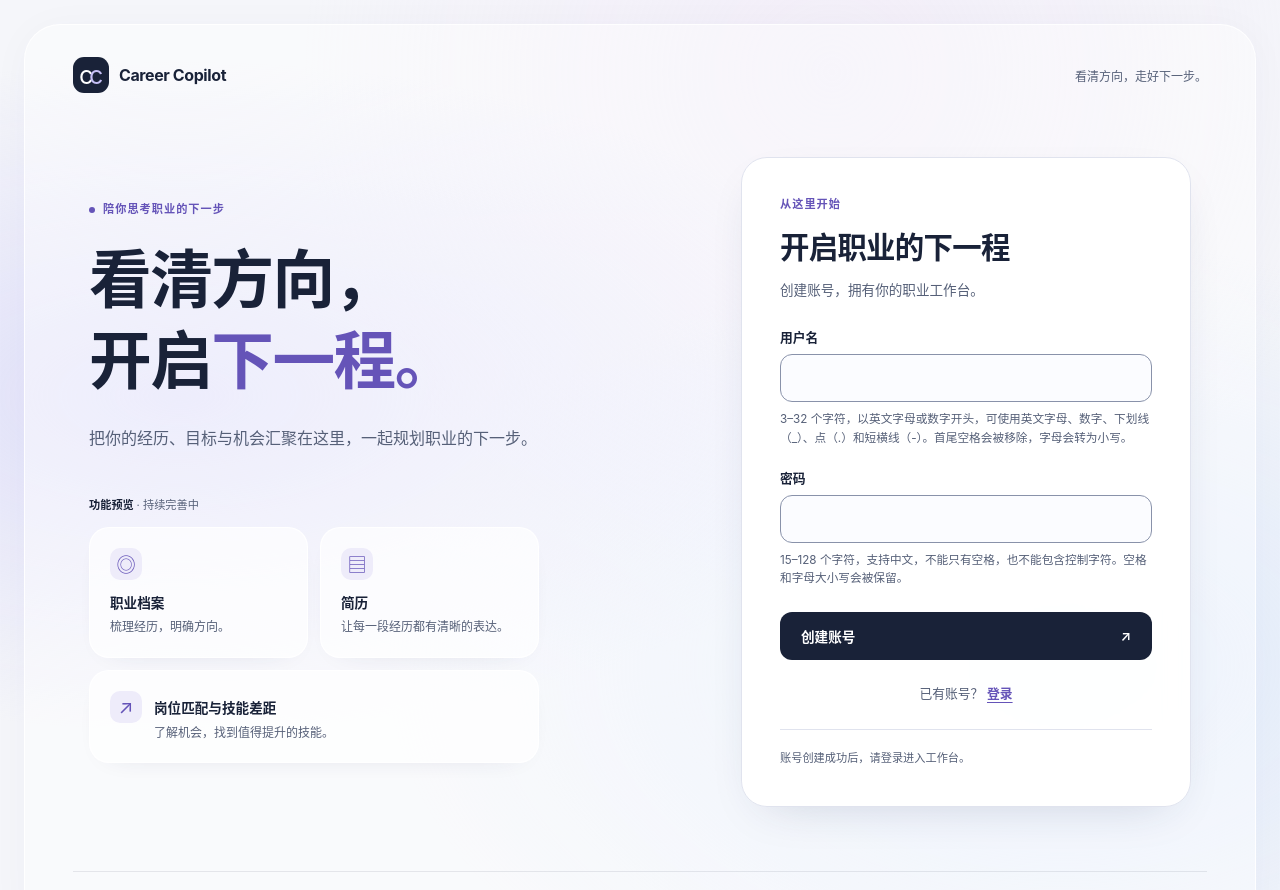
Test: registration gives password guidance before sending (short)
The width and height of the screenshot is (1280, 890).
Type "alice" into the field labelled "用户名". click: (966, 378)
box: [780, 354, 1152, 402]
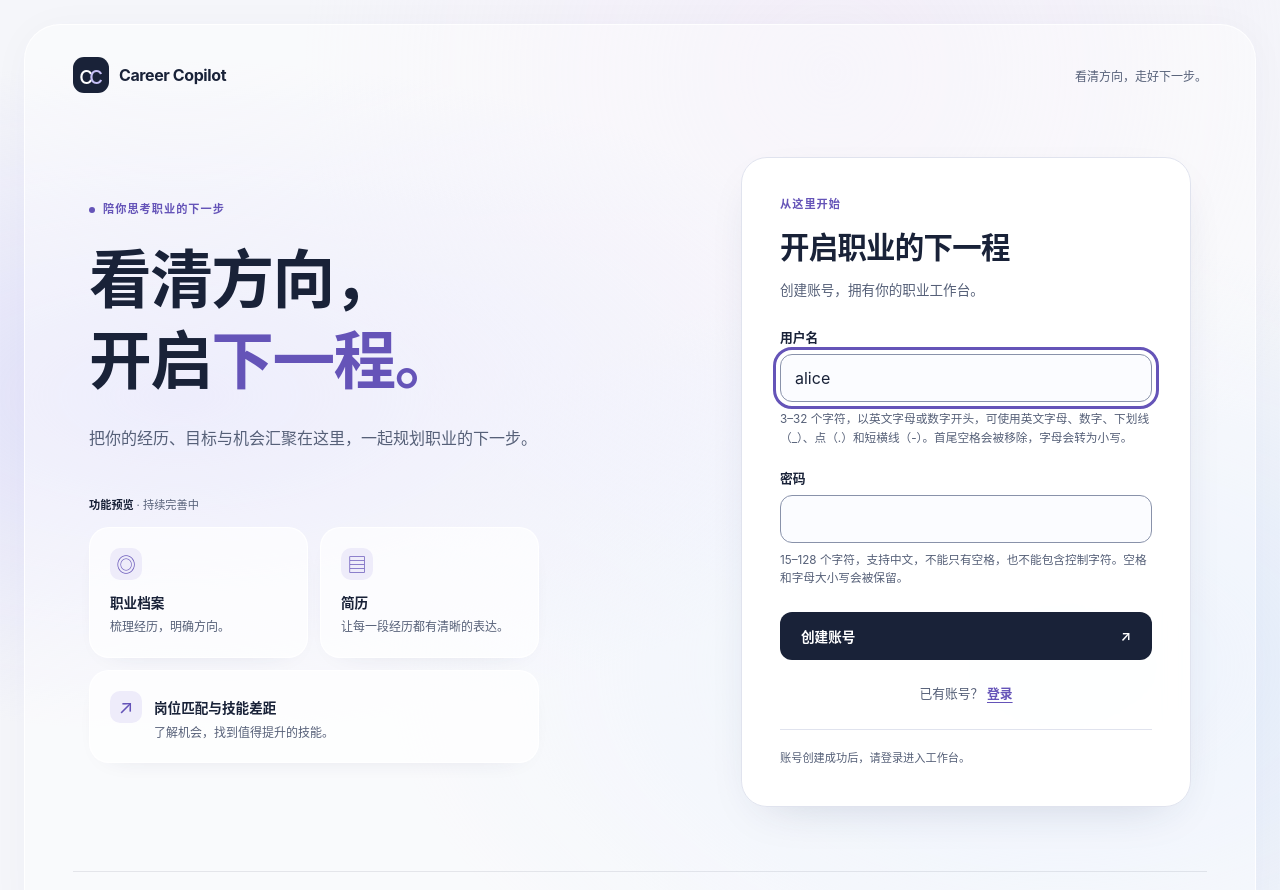
Type "short" into the password field labelled "密码". click: (966, 519)
box: [780, 495, 1152, 543]
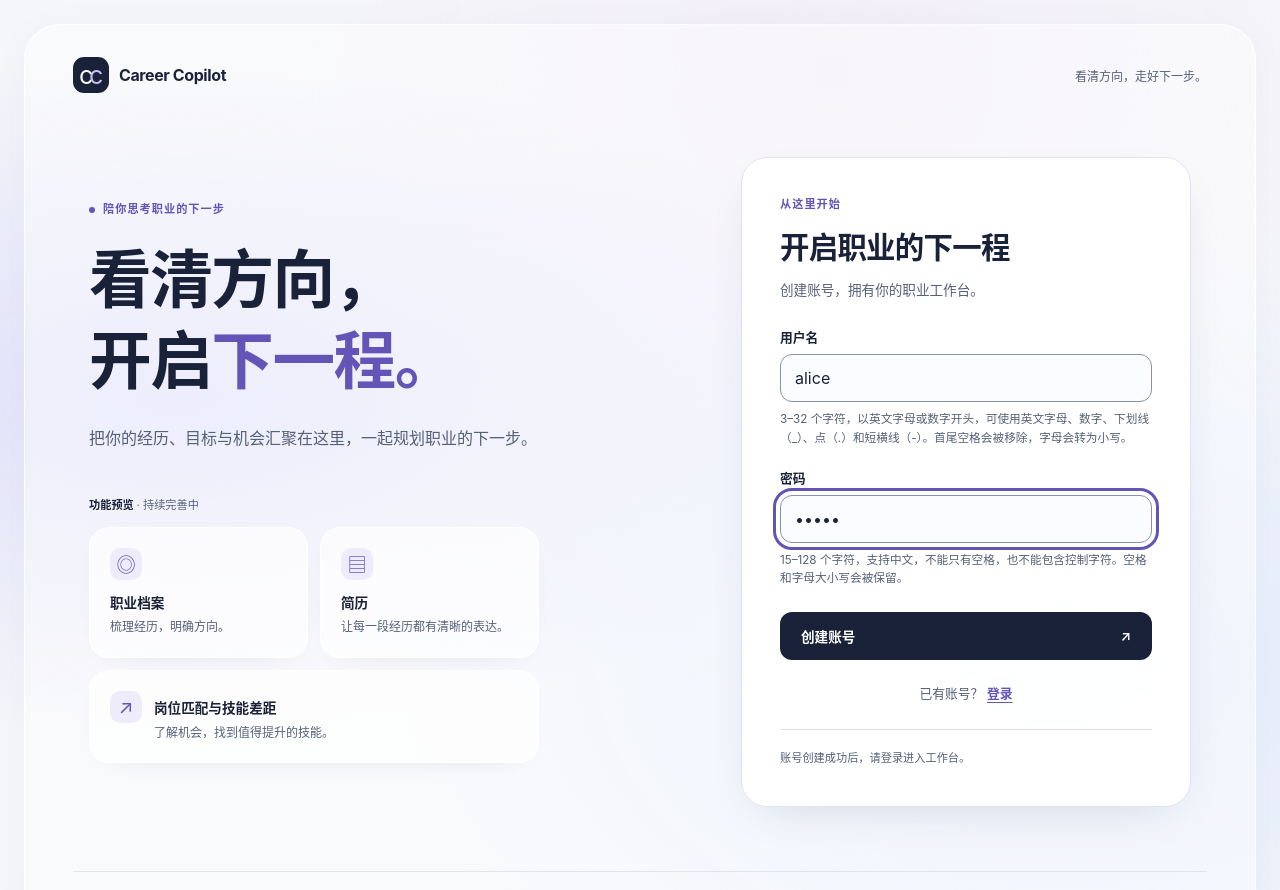
Click the button "创建账号 ↗". click: click(828, 637)
box: [780, 612, 1152, 660]
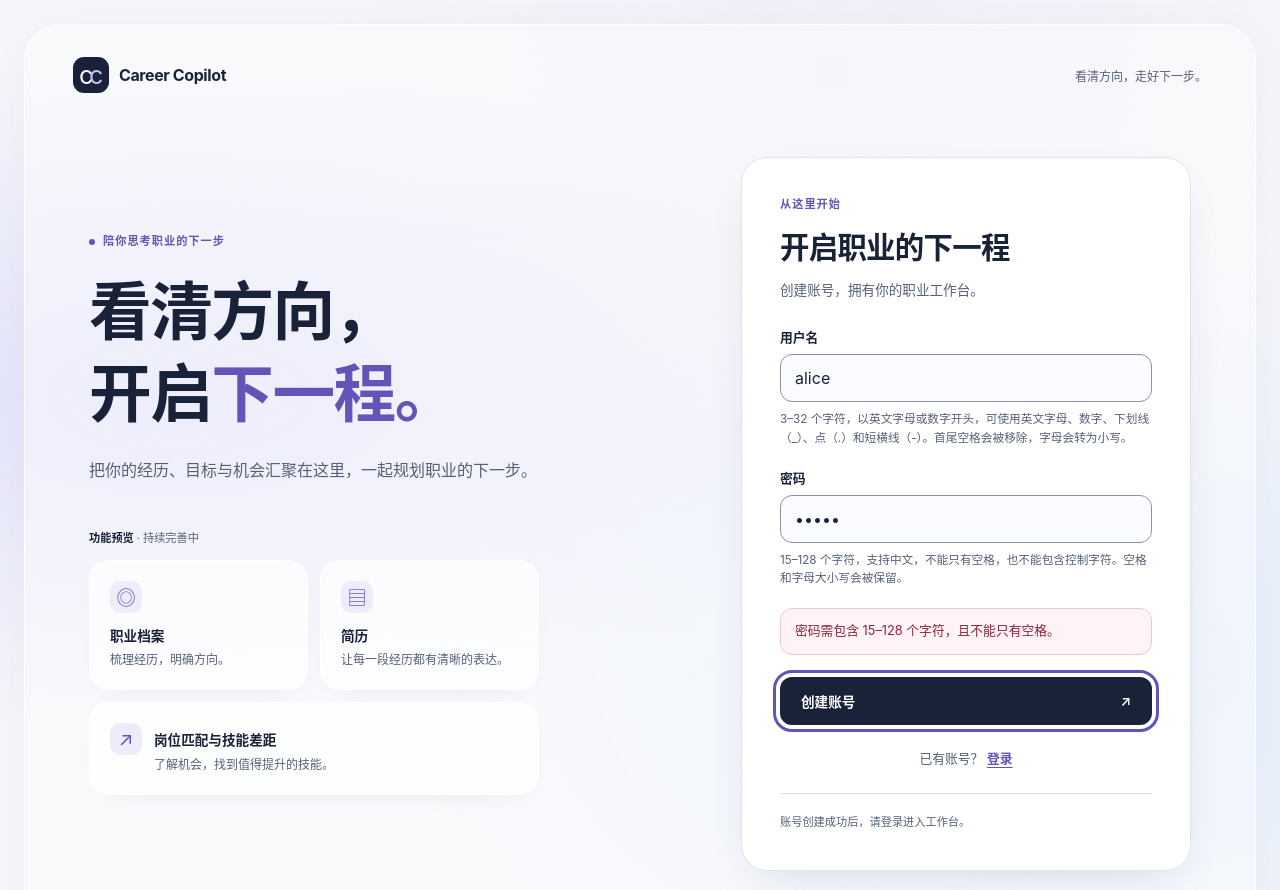
Result: the text "密码需包含 15–128 个字符，且不能只有空格。" is shown at [780, 608, 1152, 655]
